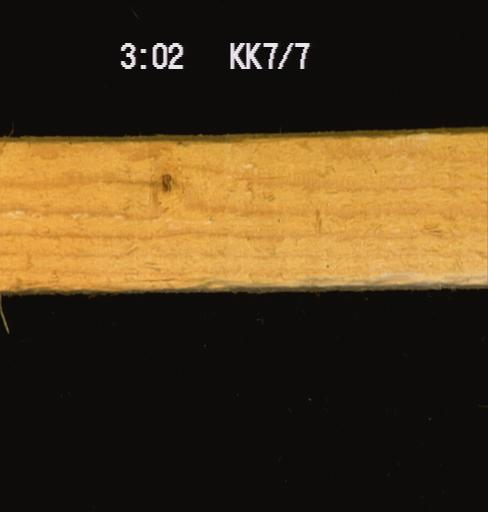small_knot: (159, 170, 172, 193)
